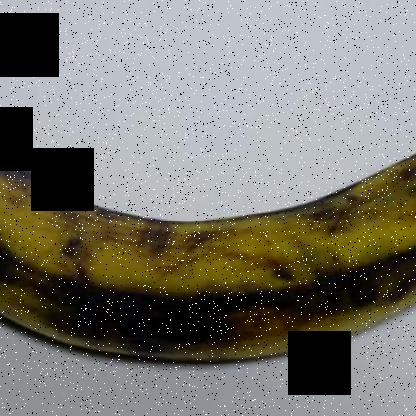overripe: (1, 105, 415, 388)
